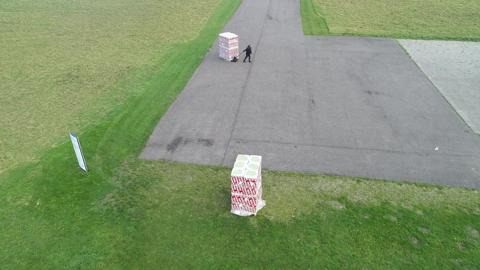RockwoolPallet: (217, 32, 239, 61)
